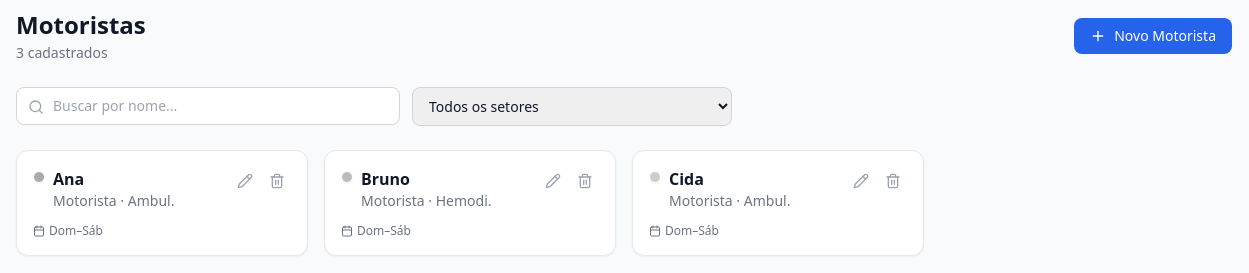
Test: EmployeesPage — botão Limpar filtros › botão aparece quando filtro de setor está ativo
Step 1. Select "Transporte Ambulância" in the dropdown named "Filtrar por setor" → (572, 106), box [412, 87, 732, 126]
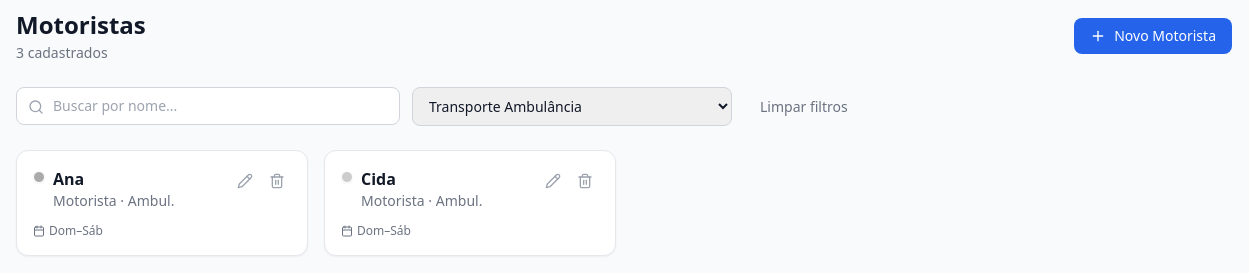
Result: the button "Limpar filtros" is shown at [744, 87, 864, 126]
